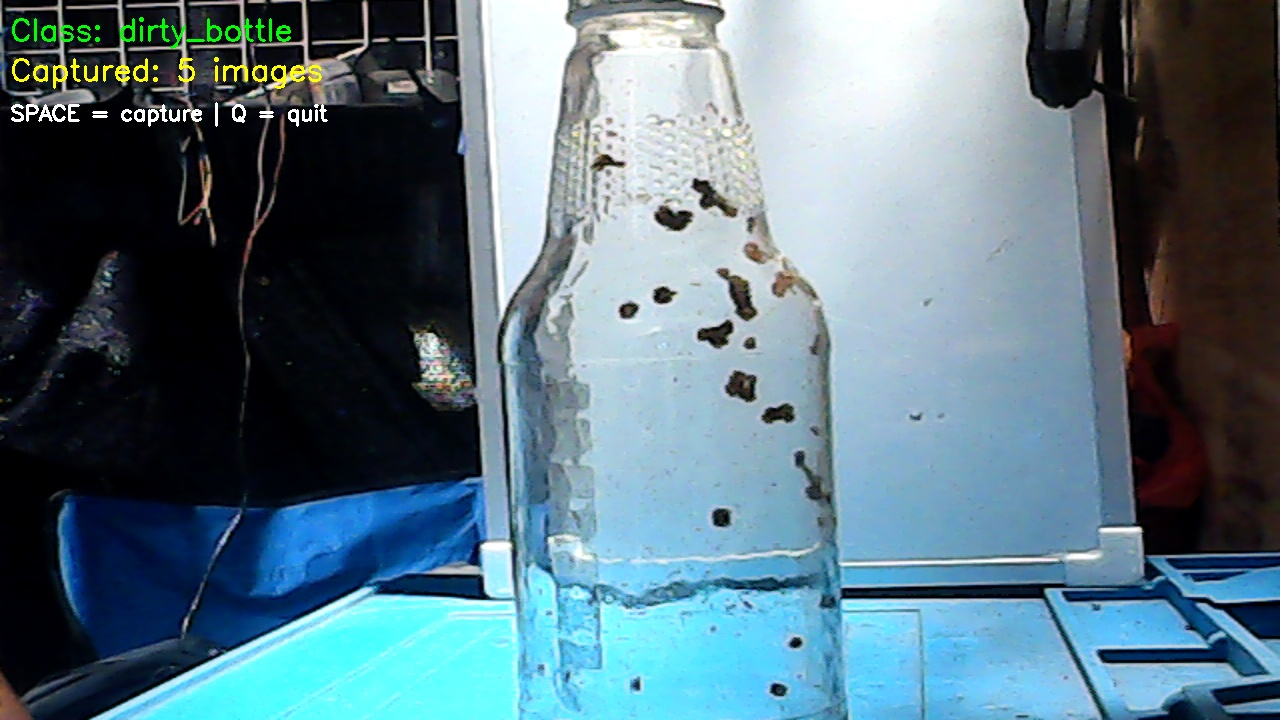dirty_bottle: (487, 11, 855, 719)
